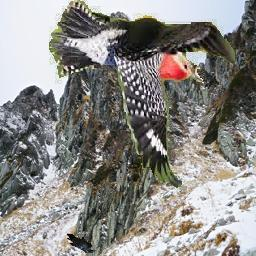Crow: (68, 231, 97, 253)
Woodpecker: (49, 0, 235, 188)
